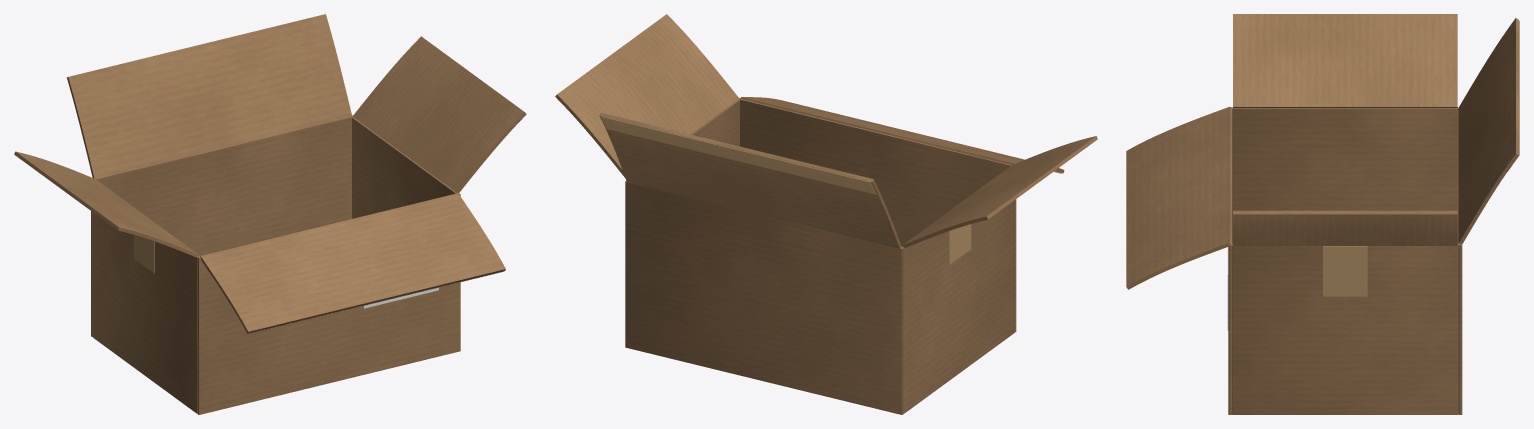
File: deliverybox.glb
The picture shows the model from 3 angles, left to right: view 1: azimuth 30°, elevation 25°; view 2: azimuth 150°, elevation 25°; view 3: azimuth 270°, elevation 25°; orthographic projection. The views are drawn at different scales.
Parts seen in each view (by area): view 1: deliverybox; view 2: deliverybox; view 3: deliverybox.
Boxes of the visible parts, x1,y1,x2,y2 form: deliverybox: (14,14,526,414); deliverybox: (555,14,1097,414); deliverybox: (1126,14,1519,414).
Bounding box in the file's own units: 0.5458 × 0.3067 × 0.4206.
3 materials, 2 textured.
